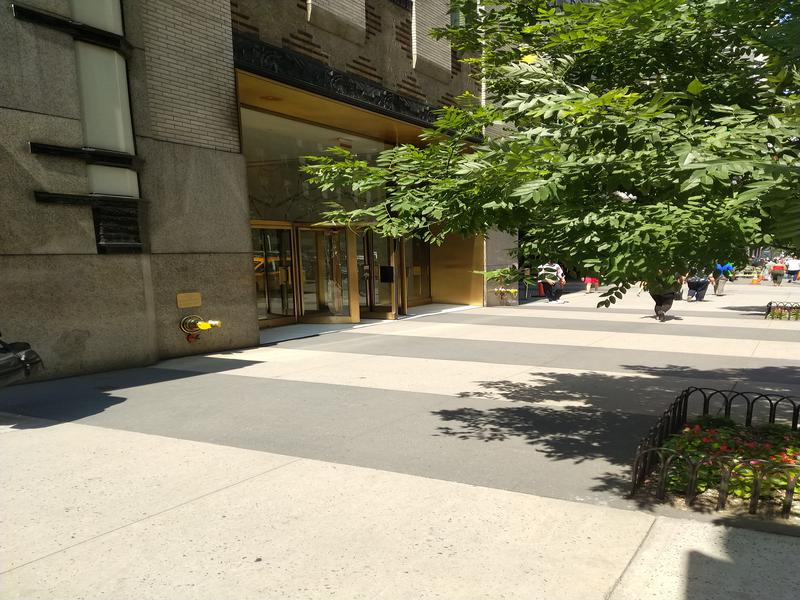revolving_door: (296, 221, 413, 327)
